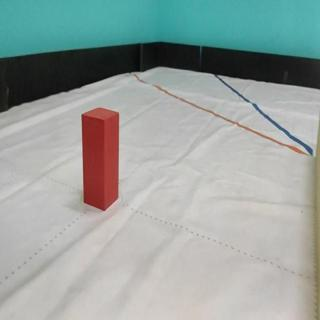redbox: (81, 106, 119, 210)
